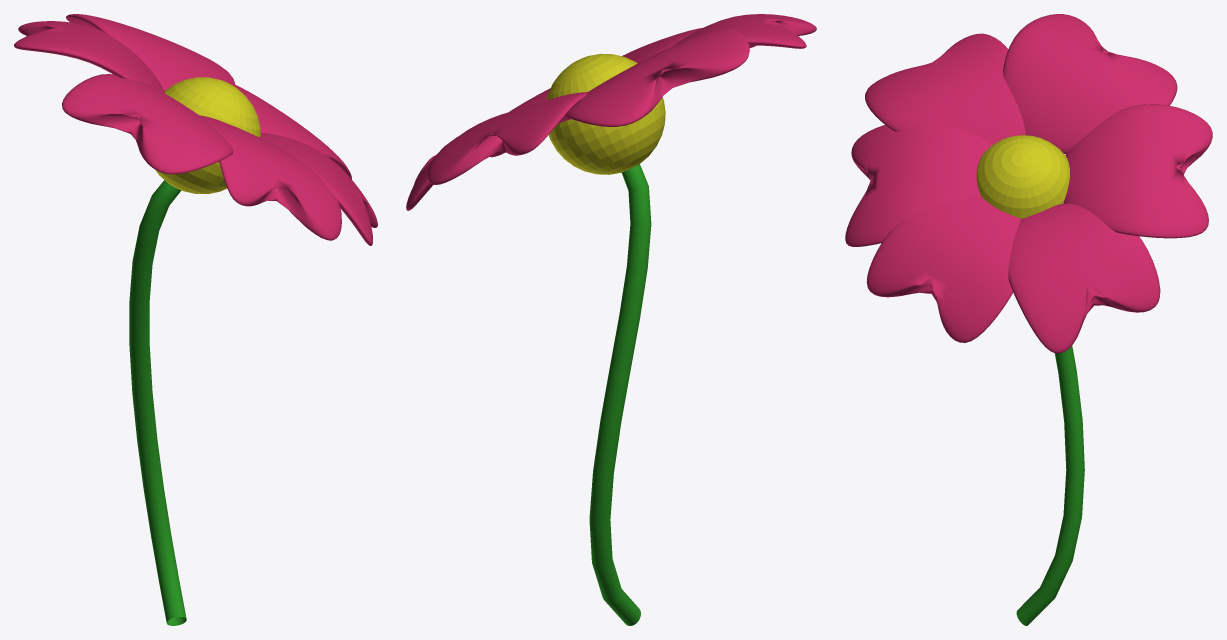
Rendered from fiore.obj.
3 renders of one model, left to right at view 1: azimuth 30°, elevation 25°; view 2: azimuth 150°, elevation 25°; view 3: azimuth 270°, elevation 25°, orthographic. The views are drawn at different scales.
Visible parts, largest first — view 1: BézierCurve, Petalo.003, Petalo.004, Petalo.002, Sphere, Petalo, Petalo.005, Petalo.001; view 2: BézierCurve, Petalo.002, Sphere, Petalo, Petalo.003, Petalo.004, Petalo.001; view 3: Petalo, Petalo.001, Petalo.005, Petalo.002, Petalo.004, Petalo.003, Sphere, BézierCurve.
Boxes of the visible parts, box(x1,y1,x2,y2) form: BézierCurve: box(129, 180, 186, 625); Petalo.003: box(62, 74, 233, 174); Petalo.004: box(200, 115, 341, 240); Petalo.002: box(14, 21, 164, 93); Sphere: box(155, 77, 260, 193); Petalo: box(66, 14, 235, 90); Petalo.005: box(259, 132, 377, 245); Petalo.001: box(234, 85, 351, 179); BézierCurve: box(589, 164, 651, 625); Petalo.002: box(565, 27, 749, 126); Sphere: box(546, 53, 665, 174); Petalo: box(427, 92, 587, 184); Petalo.003: box(672, 14, 816, 48); Petalo.004: box(622, 28, 756, 63); Petalo.001: box(406, 111, 513, 210); Petalo: box(1063, 104, 1212, 238); Petalo.001: box(1008, 203, 1160, 353); Petalo.005: box(866, 196, 1021, 342); Petalo.002: box(1003, 14, 1177, 154); Petalo.004: box(845, 124, 992, 246); Petalo.003: box(865, 33, 1025, 144); Sphere: box(976, 135, 1069, 218); BézierCurve: box(1016, 345, 1084, 625).
Bounding box in the file's own units: 3.37 × 5.89 × 3.54.
